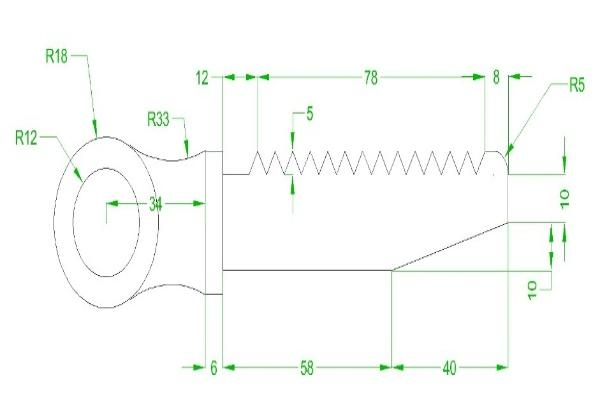dimensions: (430, 356, 468, 380), (39, 42, 75, 66), (139, 104, 174, 127), (519, 275, 544, 306), (554, 178, 576, 213), (11, 126, 44, 148), (295, 355, 319, 382), (567, 72, 588, 100), (146, 193, 168, 216), (487, 65, 506, 86), (360, 68, 382, 86), (304, 101, 321, 124), (205, 358, 223, 375)
